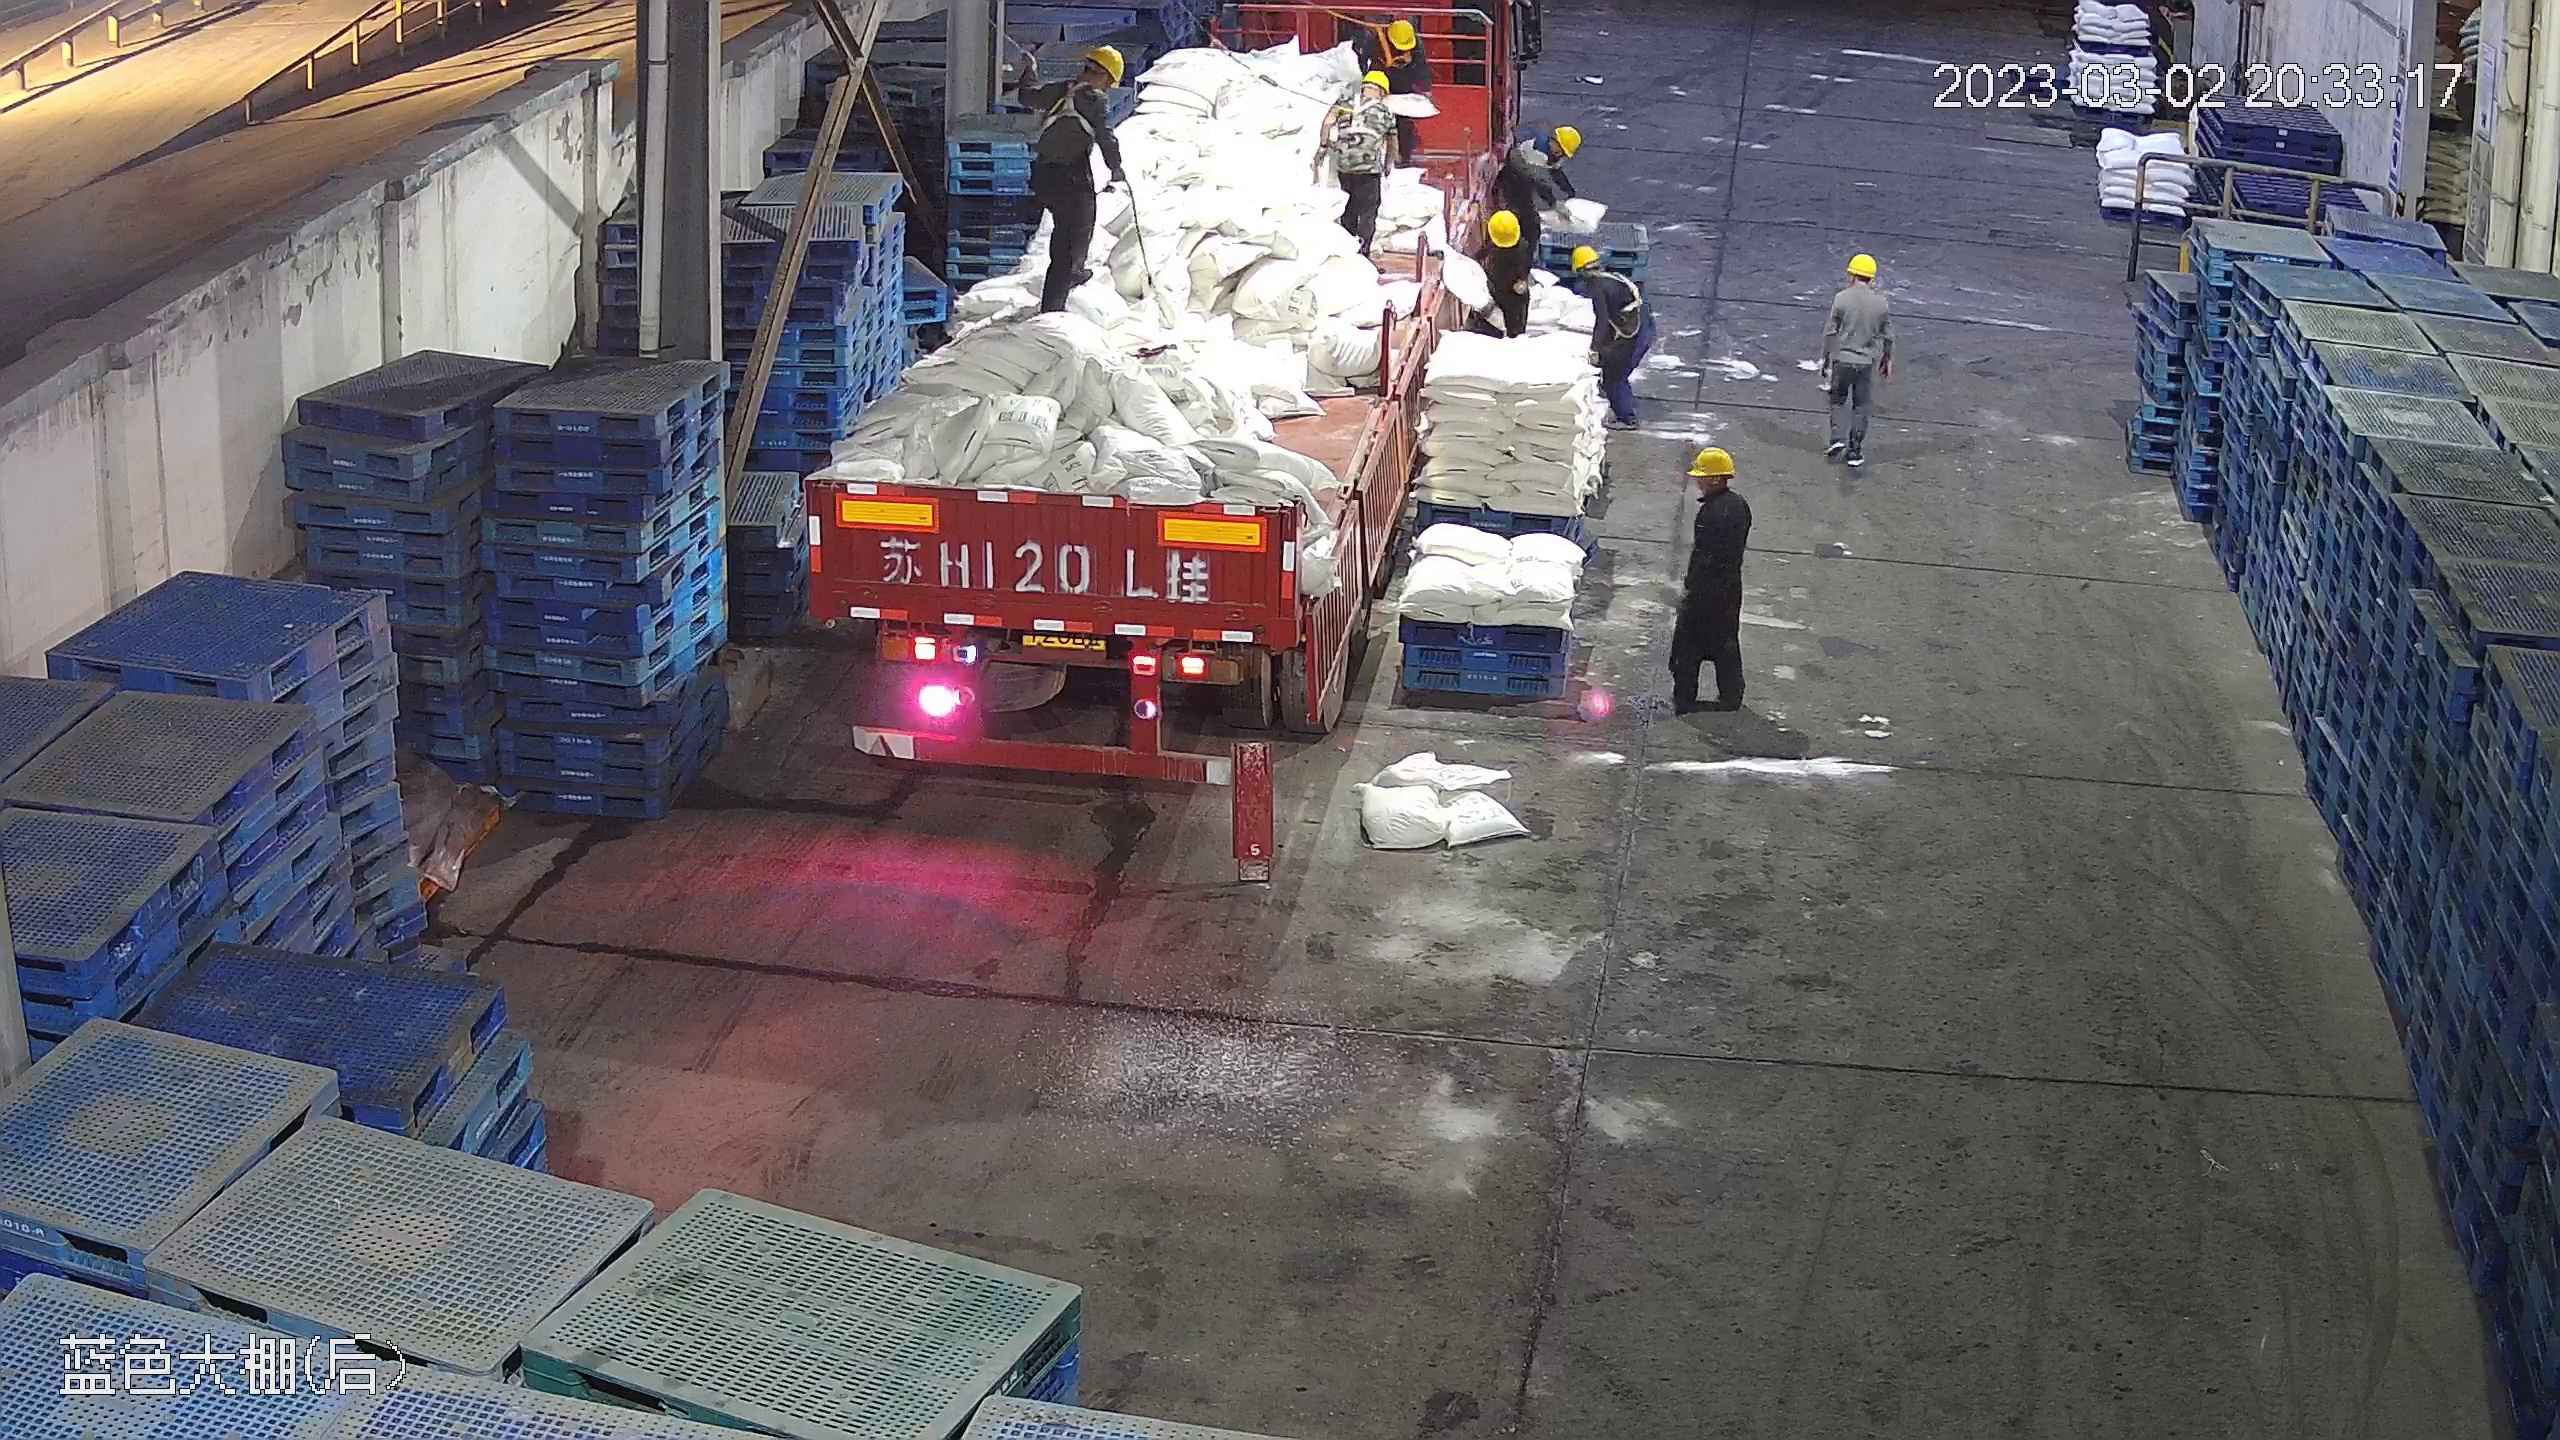belt: (1037, 79, 1098, 141), (1592, 270, 1648, 323), (1335, 91, 1388, 140), (1369, 20, 1412, 68)
head: (1037, 45, 1126, 127), (1683, 444, 1752, 537), (1465, 207, 1535, 288), (1333, 65, 1402, 134), (1565, 244, 1634, 307), (1509, 127, 1580, 185), (1828, 251, 1888, 319), (1346, 15, 1418, 70)
helmet: (1682, 444, 1752, 535), (1828, 250, 1890, 319), (1079, 44, 1125, 87), (1483, 207, 1522, 249), (1685, 446, 1737, 478), (1384, 17, 1418, 53), (1559, 242, 1599, 270), (1843, 251, 1879, 278), (1552, 126, 1579, 156), (1362, 70, 1390, 96)
people: (1014, 38, 1129, 325), (1663, 444, 1754, 714), (1814, 247, 1893, 475), (1315, 65, 1401, 255), (1568, 241, 1651, 434), (1502, 124, 1579, 239), (1470, 206, 1532, 338)
truck: (798, 21, 1522, 774)
